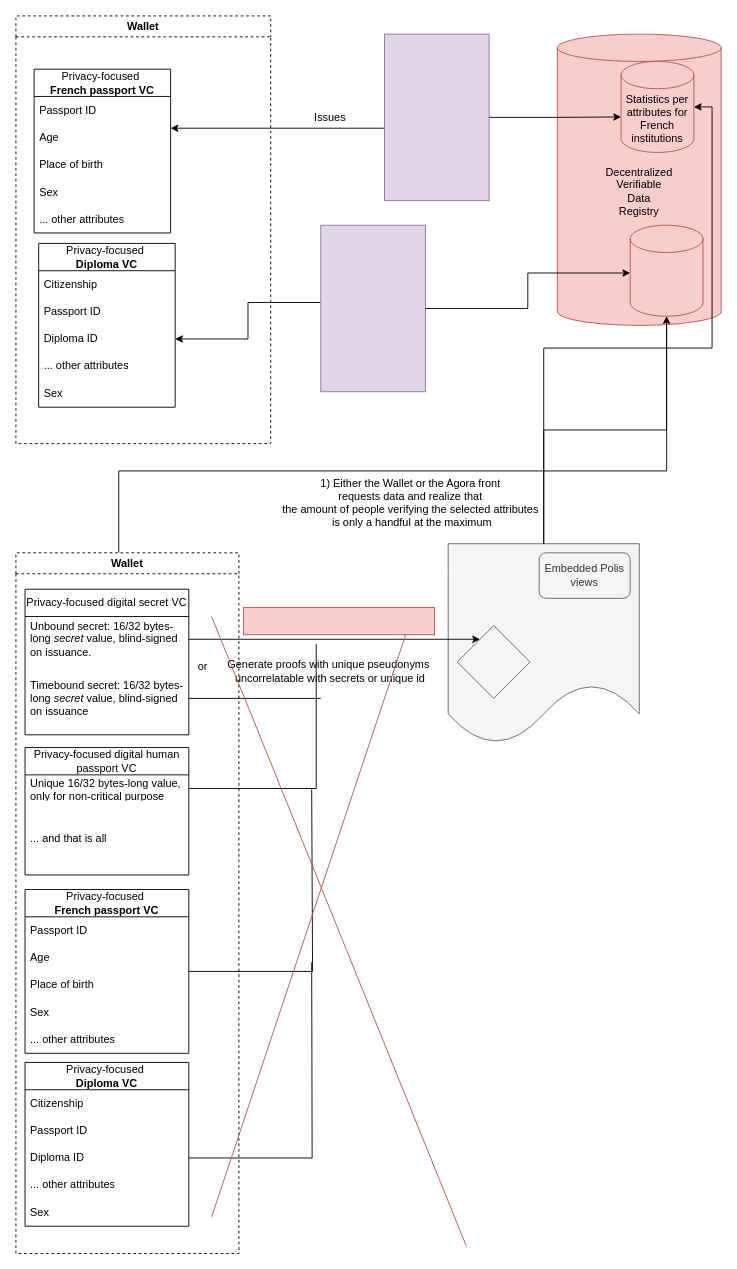
The diagram is 737 pixels wide and 1269 high, and some of its shapes have lost their labels. Here are the shapes that lost their labels. From the top down, the box of each, then its label:
(384, 33, 489, 201): French public institutions
(629, 224, 703, 316): Statistics per attributes for Atlantic City University
(320, 224, 425, 392): Atlantic City University
(243, 607, 435, 635): 2) Won't do to preserve anonymity
(456, 625, 530, 698): Nostr Client
(447, 543, 639, 744): Agora Front
